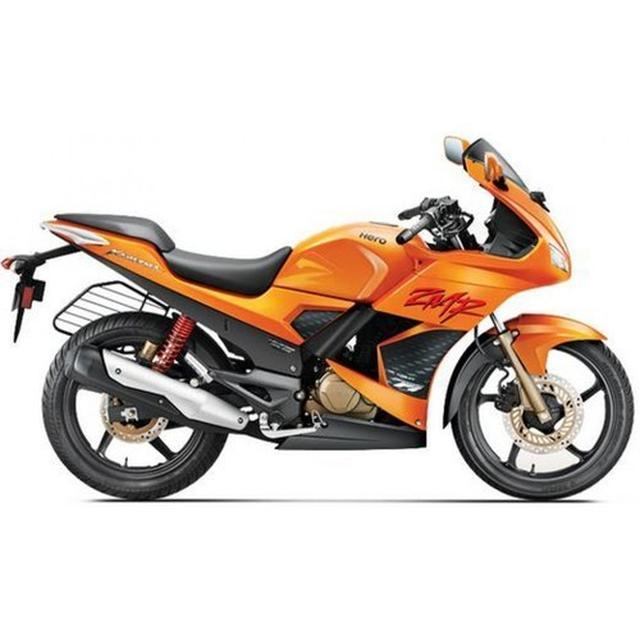motorcycle: (1, 125, 640, 506)
